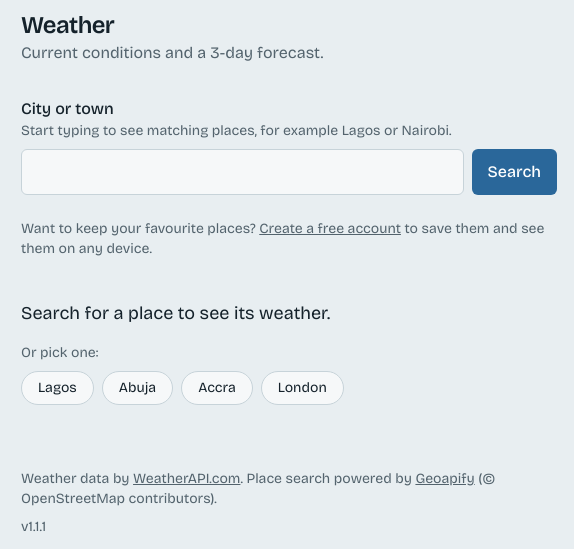
Test case: Home page with a single, unrelated match › asks "did you mean" instead of loading the weather for "edo"
Type "edo" into the dropdown.
click(242, 172); type("edo")  # box [21,149,464,195]
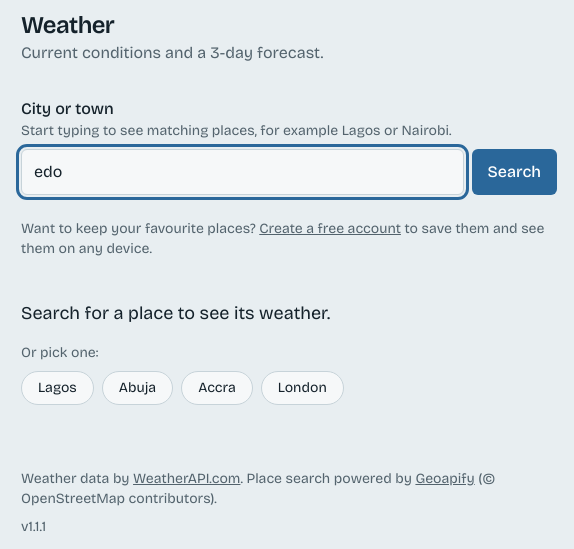
Click the button "Search".
click(514, 172)  # box [472,149,557,195]
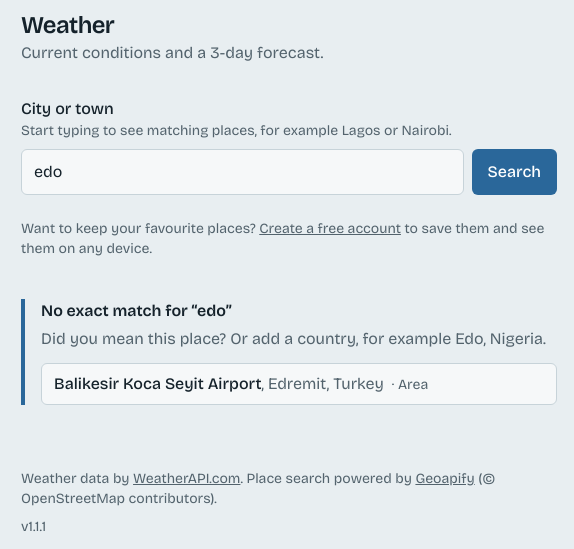
Now the heading "No exact match for “edo”" is shown, box [41,301,232,320]
Now the button "Balikesir Koca Seyit Airport, Edremit, Turkey· Area" is shown, box [41,363,557,405]
